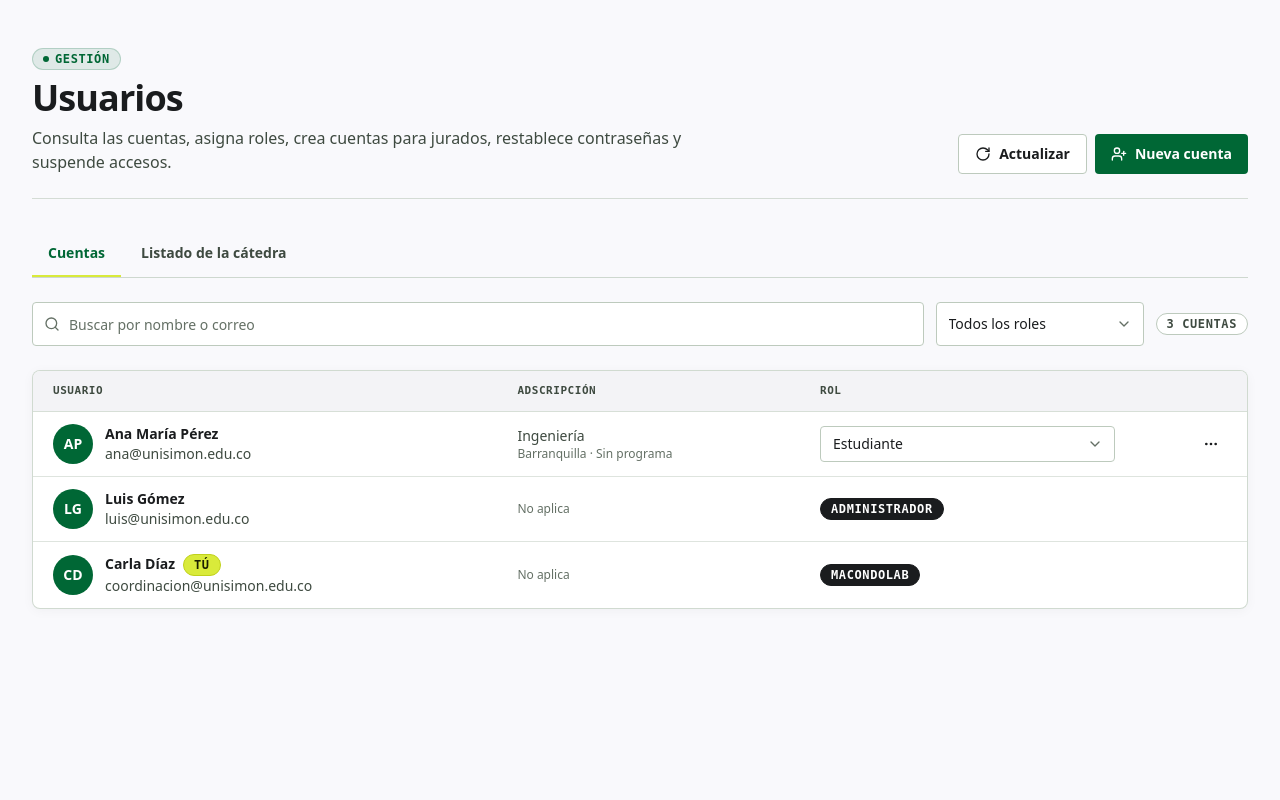
Test case: Usuarios como MacondoLab › no puede eliminar cuentas
Click the button named "Acciones para Ana María Pérez" at (1211, 444), box [1195,428,1227,460]
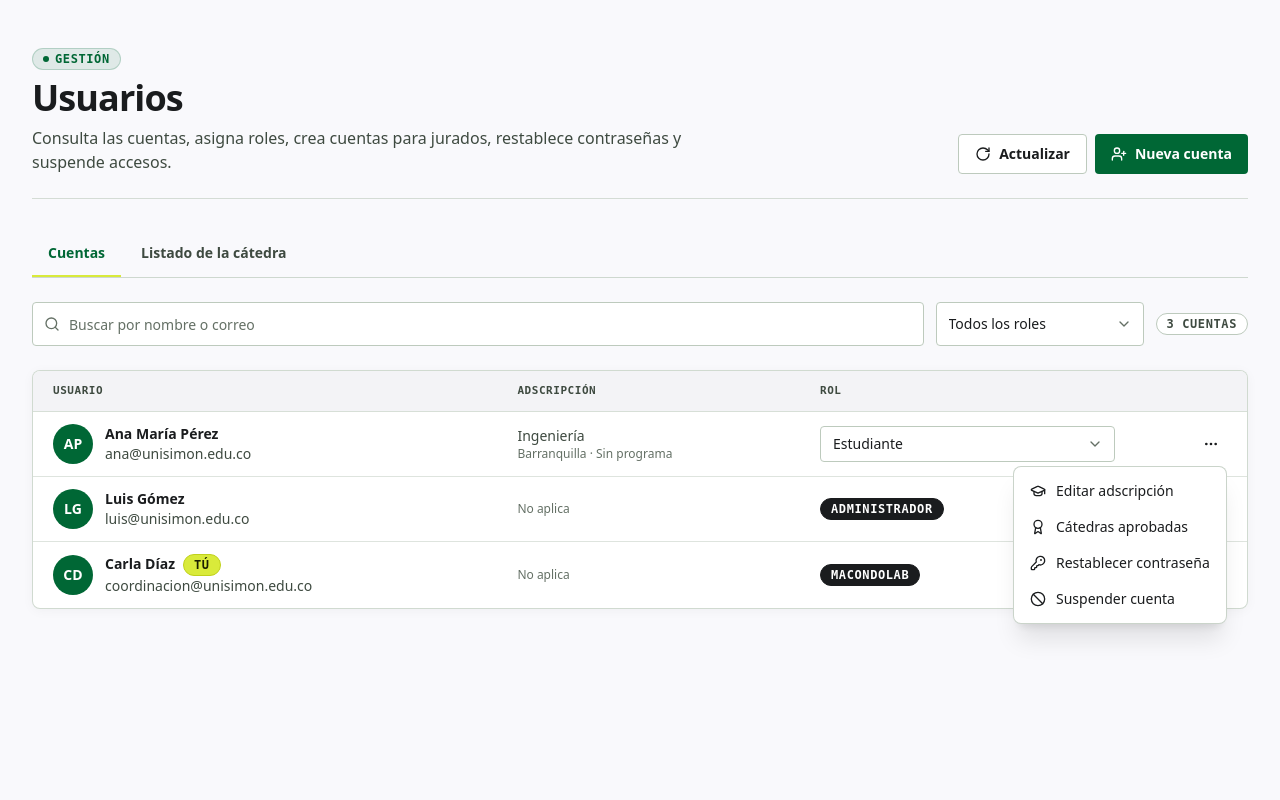
Now the menu item "Restablecer contraseña" is shown, box [1030,553,1210,572]
Now the menu item "Editar adscripción" is shown, box [1030,481,1174,500]
